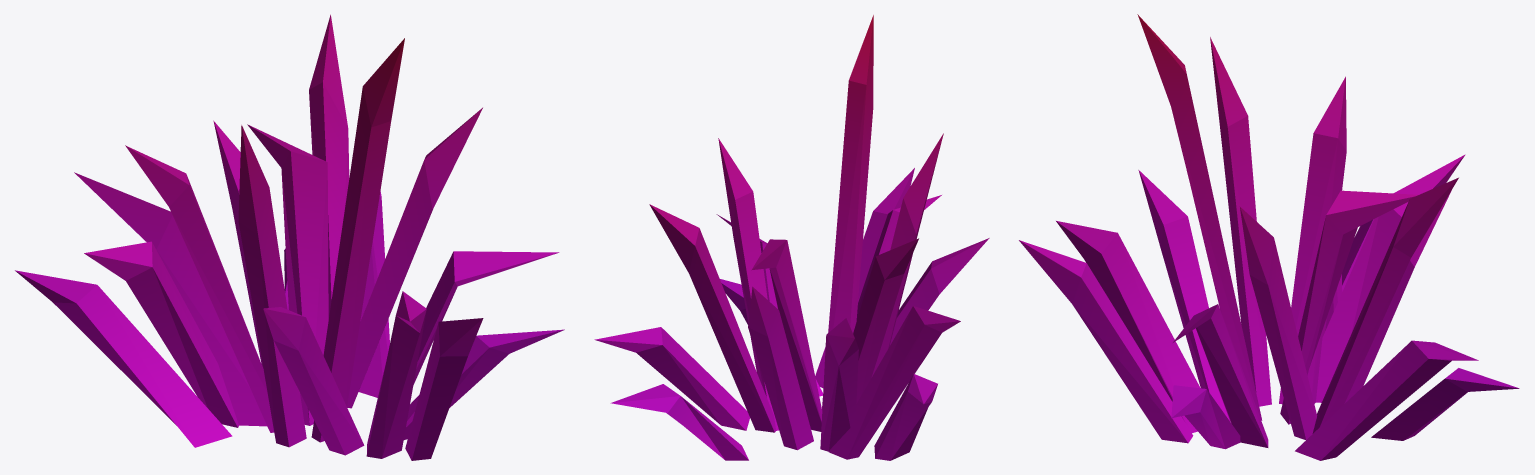
The model's file is SM_Plant_Grass_02.gltf.
The picture shows the model from 3 angles, left to right: view 1: azimuth 30°, elevation 25°; view 2: azimuth 150°, elevation 25°; view 3: azimuth 270°, elevation 25°; orthographic projection. The views are drawn at different scales.
Visible parts, largest first — view 1: SM_Plant_Grass_02; view 2: SM_Plant_Grass_02; view 3: SM_Plant_Grass_02.
Boxes of the visible parts, x1,y1,x2,y2 form: SM_Plant_Grass_02: (15,14,564,460); SM_Plant_Grass_02: (594,15,989,460); SM_Plant_Grass_02: (1019,14,1519,460).
Bounding box in the file's own units: 1.11 × 1.16 × 1.29.
